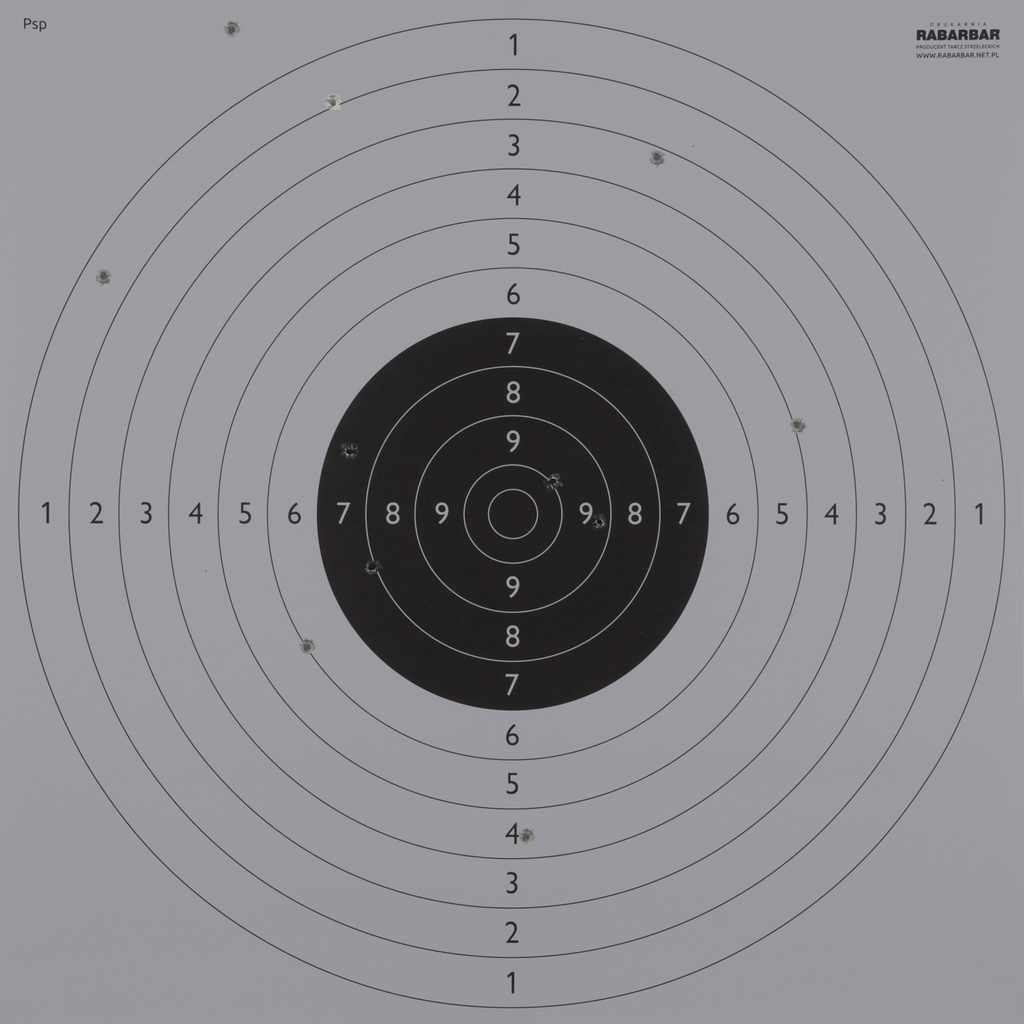0 punktow: (223, 20, 241, 39)
1 punkt: (94, 267, 113, 286)
10 punktow: (543, 473, 562, 491)
2 punkty: (324, 93, 342, 112)
3 punkty: (648, 148, 666, 167)
4 punkty: (517, 827, 536, 846)
5 punktow: (788, 416, 807, 435)
6 punktow: (298, 638, 317, 656)
7 punktow: (340, 442, 359, 460)
8 punktow: (363, 558, 382, 576)
9 punktow: (590, 513, 609, 531)
